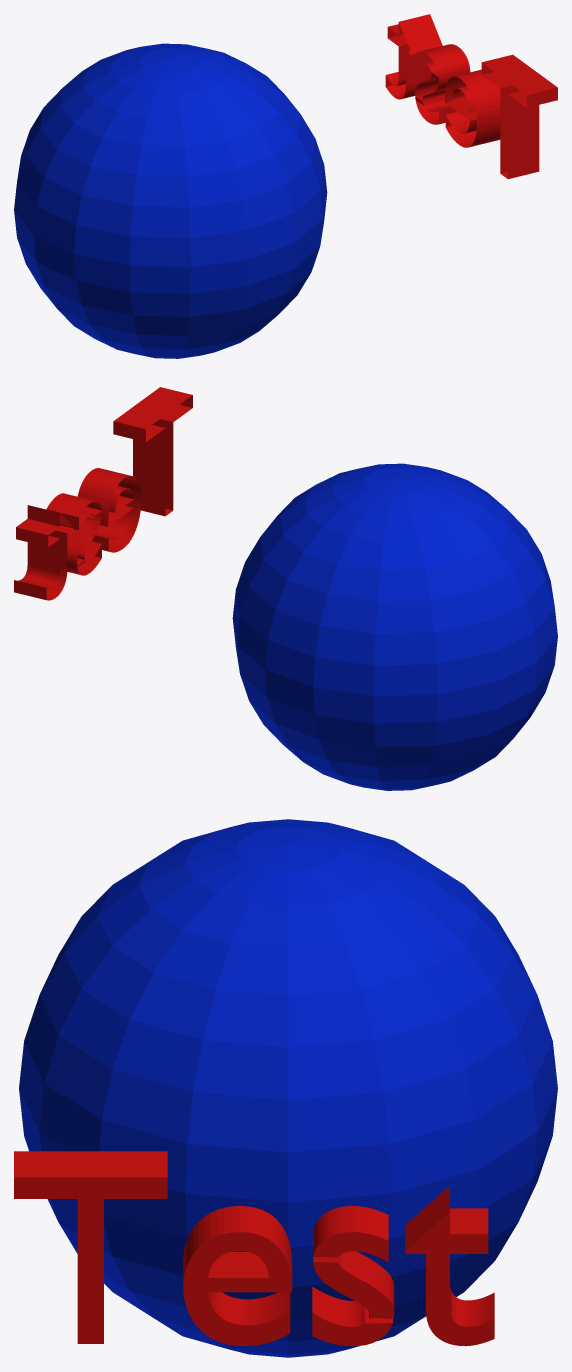
Rendered from Test-Text-and-Sphere.obj.
3 views of the same model, one above another, from view 1: azimuth 30°, elevation 25°; view 2: azimuth 150°, elevation 25°; view 3: azimuth 270°, elevation 25° (orthographic). The views are drawn at different scales.
Visible parts, largest first — view 1: Sphere, Text_Test_Text; view 2: Sphere, Text_Test_Text; view 3: Sphere, Text_Test_Text.
Boxes of the visible parts, x1,y1,x2,y2 form: Sphere: [14, 43, 327, 358]; Text_Test_Text: [385, 14, 557, 178]; Sphere: [232, 463, 557, 790]; Text_Test_Text: [14, 387, 192, 600]; Sphere: [19, 819, 557, 1357]; Text_Test_Text: [14, 1151, 494, 1346].
Bounding box in the file's own units: 3.24 × 2 × 2.02.
